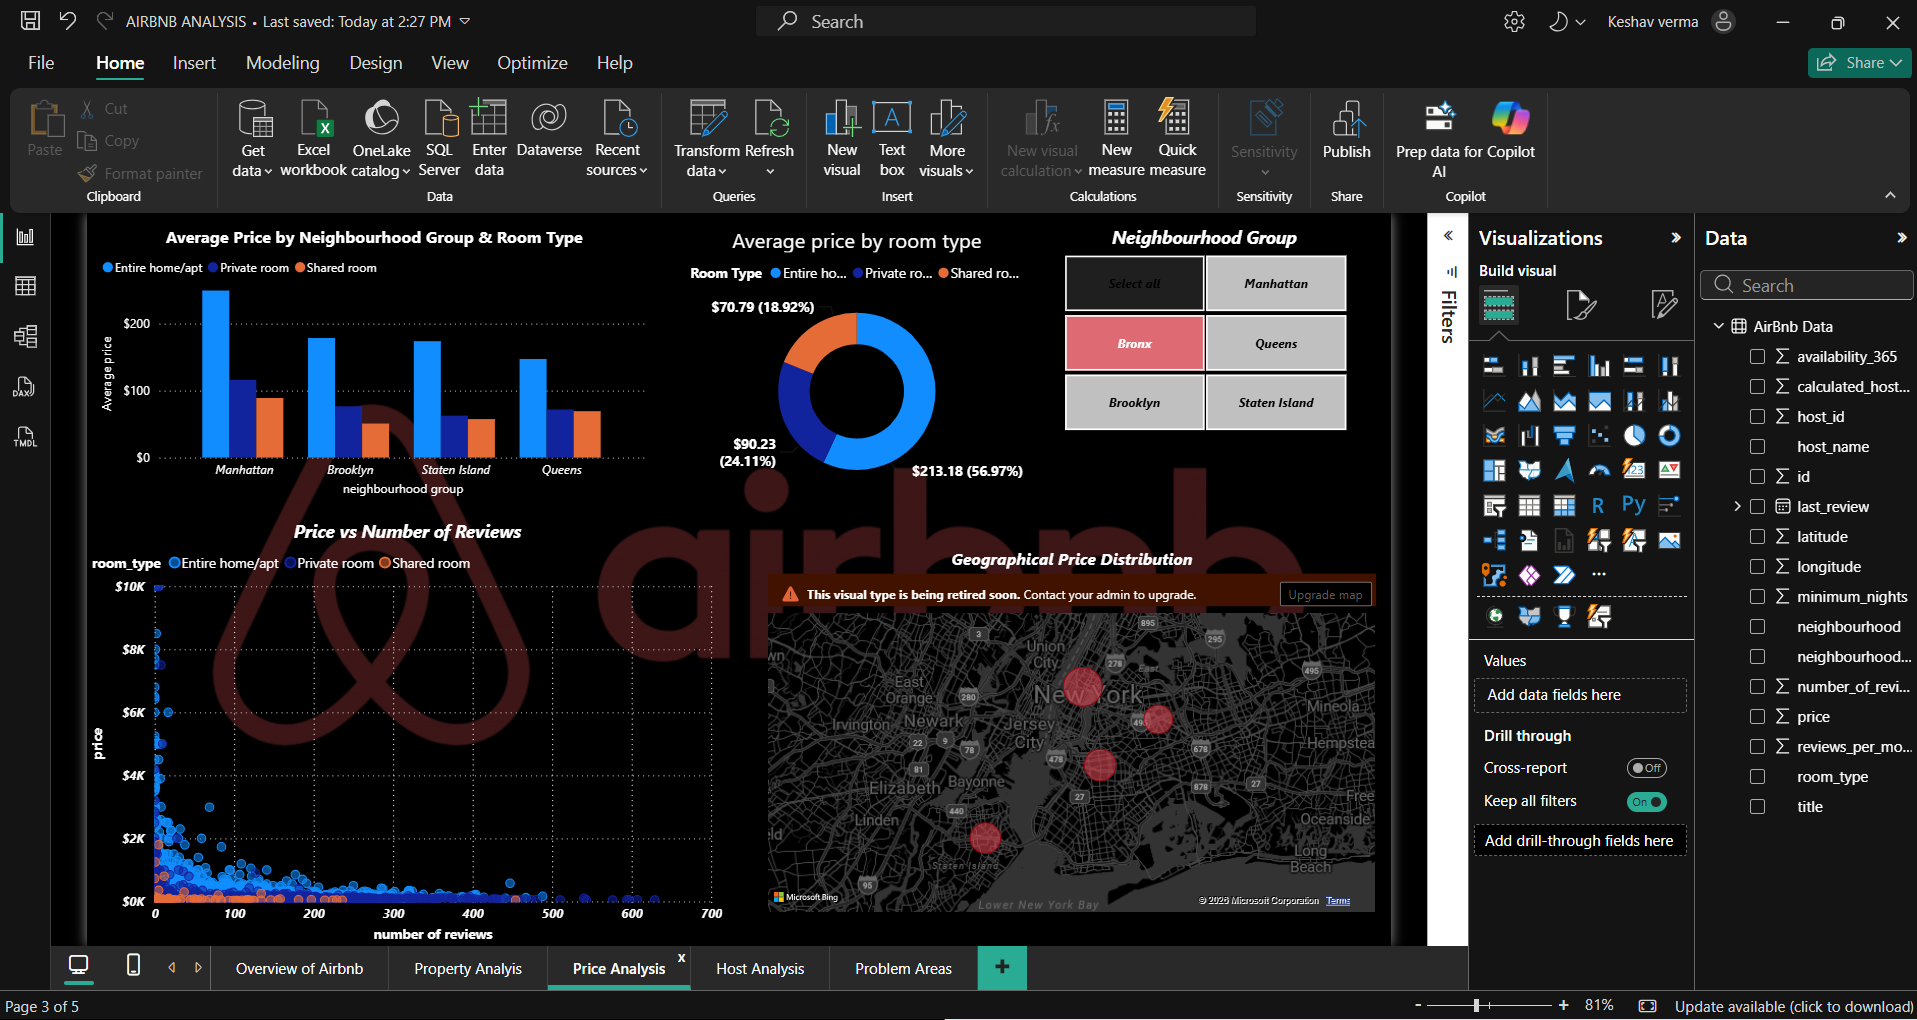

The page's visual inventory and layout, read from the dashboard file:
{"tool":"powerbi","page":{"name":"Price Analysis","canvas":[1280,720],"ordinal":2},"visuals":[{"type":"clusteredColumnChart","title":"Average Price by Neighbourhood Group & Room Type","fields":{"Category":["AirBnb Data.neighbourhood_group"],"Series":["AirBnb Data.room_type"],"Y":["Avg(AirBnb Data.price)"]},"box":[10.3,12.8,544.6,271],"z":0},{"type":"donutChart","title":"Average  price by room type","fields":{"Category":["AirBnb Data.room_type"],"Y":["Avg(AirBnb Data.price)"]},"box":[578,12.8,355.8,269.7],"z":1000},{"type":"scatterChart","title":"Price vs Number of Reviews","fields":{"Series":["AirBnb Data.room_type"],"X":["AirBnb Data.number_of_reviews"],"Y":["AirBnb Data.price"]},"box":[0,301.1,628.9,419.7],"z":2000},{"type":"slicer","title":"Neighbourhood Group","fields":{"Values":["AirBnb Data.neighbourhood_group"]},"box":[933.8,12.8,326.2,208.1],"z":3000},{"type":"map","title":"Geographical Price Distribution","fields":{"Category":["AirBnb Data.neighbourhood_group"],"Size":["Avg(AirBnb Data.price)"],"X":["Avg(AirBnb Data.longitude)"],"Y":["Avg(AirBnb Data.latitude)"]},"box":[664,327.5,606.2,363.5],"z":4000}]}

Visuals, with their boxes on the page's 1280x720 design canvas (x1, y1, x2, y2). These are canvas units, not pixel positions in the 1917x1020 screenshot, which may show the page scaled, cropped or inside an application window:
"Average Price by Neighbourhood Group & Room Type" clusteredColumnChart: (10,13,555,284)
"Average  price by room type" donutChart: (578,13,934,282)
"Price vs Number of Reviews" scatterChart: (0,301,629,721)
"Neighbourhood Group" slicer: (934,13,1260,221)
"Geographical Price Distribution" map: (664,328,1270,691)
